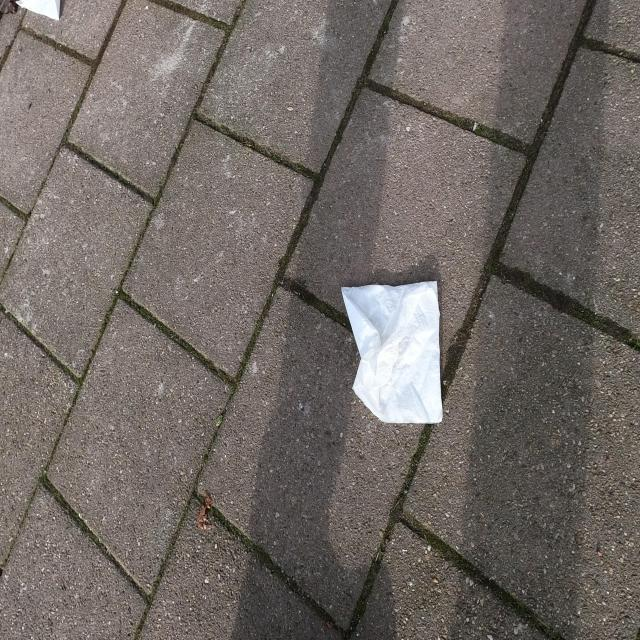Paper: (339, 279, 444, 424)
